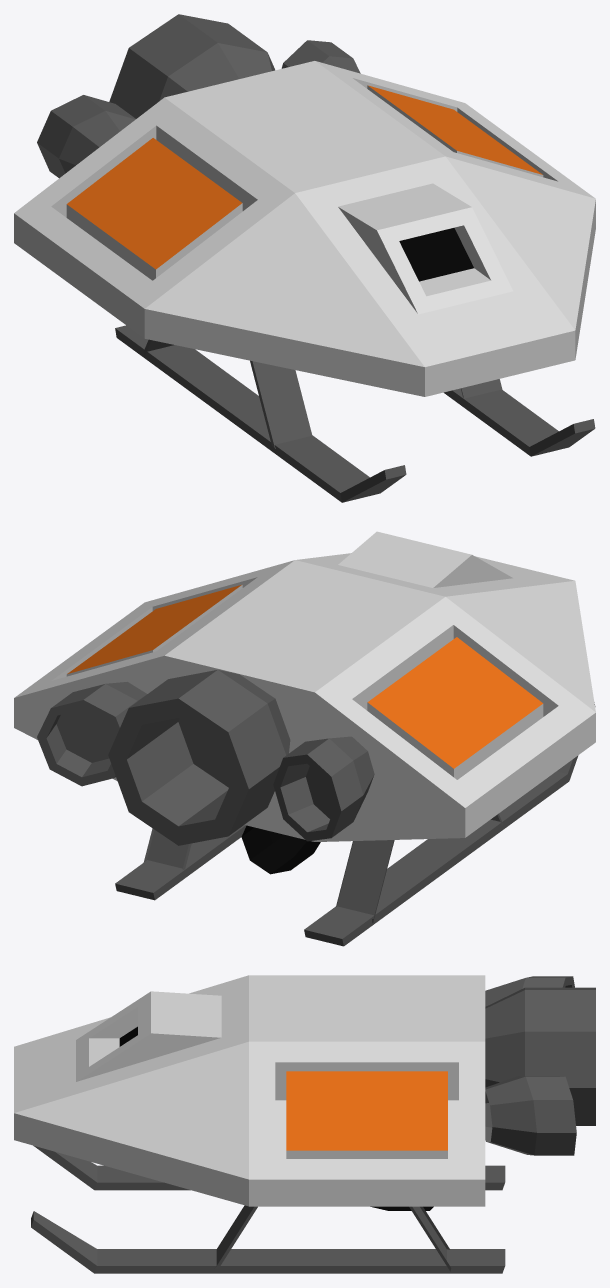
The model's file is shovel.glb.
3 views of the same model, one above another, from view 1: azimuth 30°, elevation 25°; view 2: azimuth 150°, elevation 25°; view 3: azimuth 270°, elevation 25° (orthographic). The views are drawn at different scales.
Parts seen in each view (by area): view 1: Plane, Plane.001, Circle.002, Circle.001, Plane.002; view 2: Plane, Circle.002, Circle.001, Plane.001, Plane.003, GunBase; view 3: Plane, Plane.001, Circle.002, Circle.001, Plane.002, Plane.003.
Part boxes in pixels (<box>): Plane: <box>14,61,595,396</box>; Plane.001: <box>115,325,595,502</box>; Circle.002: <box>109,14,274,118</box>; Circle.001: <box>37,40,360,178</box>; Plane.002: <box>250,360,502,448</box>; Plane: <box>14,531,595,841</box>; Circle.002: <box>108,670,290,845</box>; Circle.001: <box>37,682,374,841</box>; Plane.001: <box>115,702,595,946</box>; Plane.003: <box>143,828,394,922</box>; GunBase: <box>241,825,320,874</box>; Plane: <box>14,975,485,1206</box>; Plane.001: <box>31,1145,505,1273</box>; Circle.002: <box>485,987,595,1125</box>; Circle.001: <box>485,976,576,1155</box>; Plane.002: <box>215,1205,257,1268</box>; Plane.003: <box>409,1206,451,1271</box>.
Bounding box in the file's own units: 2 × 1.09 × 2.47.
